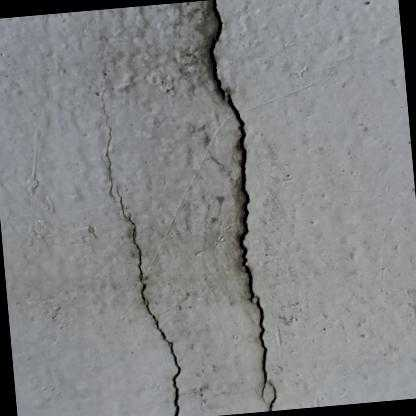crack: (209, 0, 277, 411), (115, 187, 181, 416)
